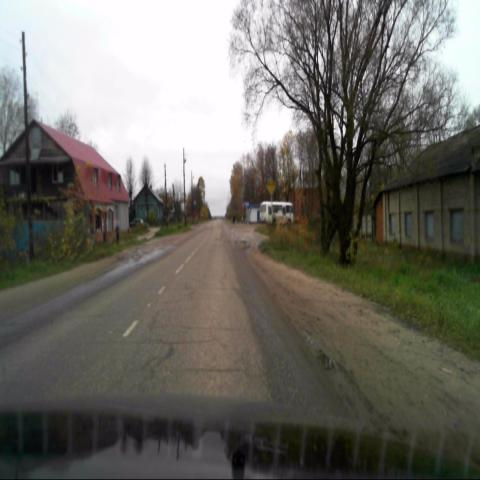2_1: (266, 176, 276, 195)
